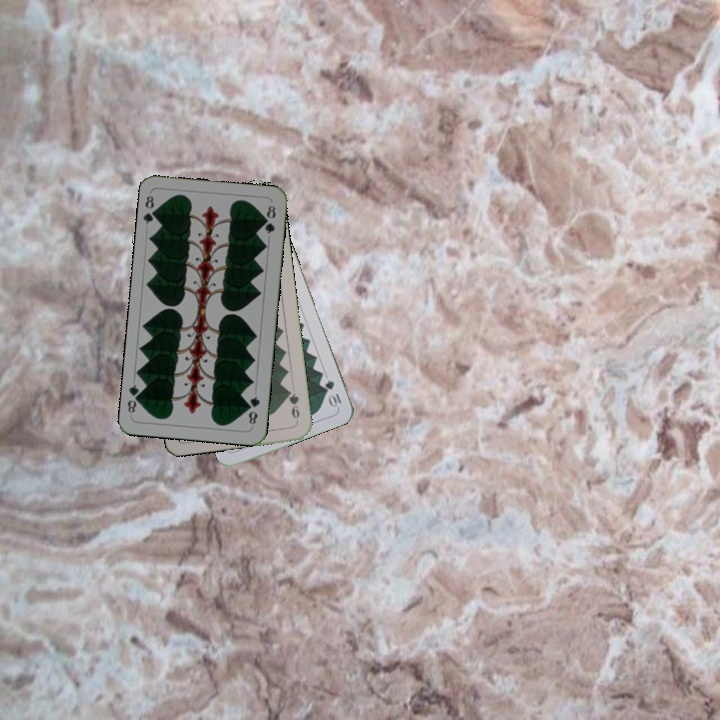G10: (321, 376, 344, 410)
G8: (140, 192, 161, 226), (244, 392, 263, 427)
G9: (284, 386, 302, 425)
